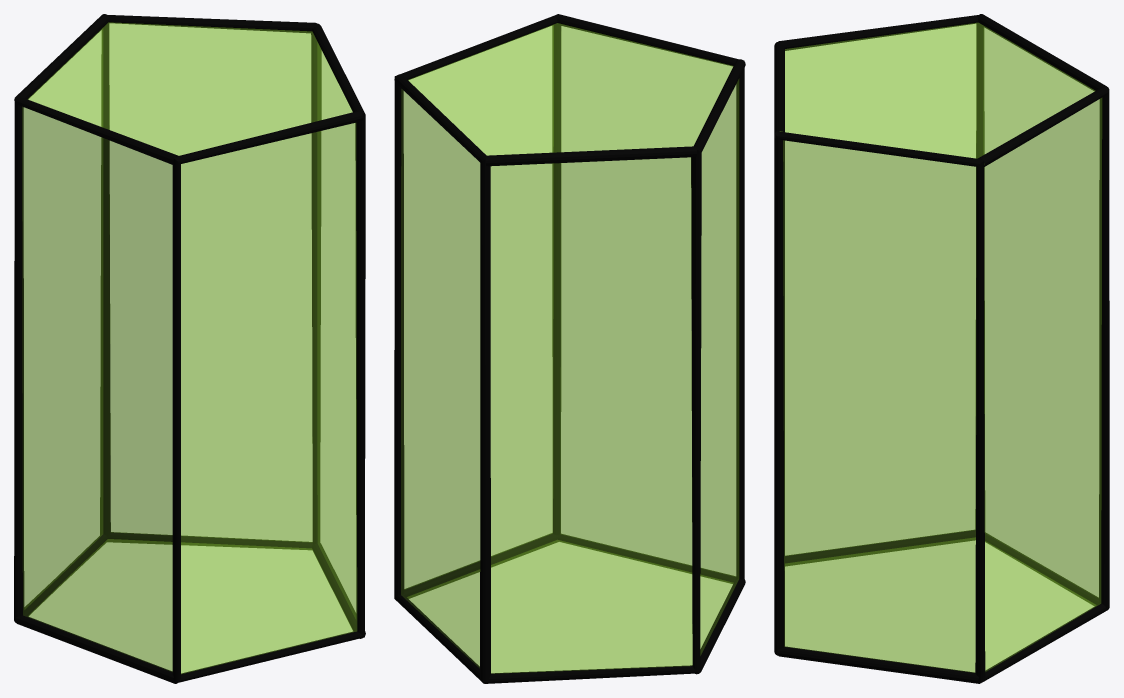
File: prisma.glb
3 renders of one model, left to right at view 1: azimuth 30°, elevation 25°; view 2: azimuth 150°, elevation 25°; view 3: azimuth 270°, elevation 25°, orthographic.
Visible parts, largest first — view 1: Circle.001, Circle; view 2: Circle.001, Circle; view 3: Circle.001, Circle.
Part boxes in pixels (x1,y1,x2,y2): Circle.001: [22, 22, 356, 673]; Circle: [14, 14, 365, 683]; Circle.001: [401, 23, 738, 673]; Circle: [394, 14, 745, 683]; Circle.001: [780, 23, 1101, 672]; Circle: [774, 14, 1109, 683].
Size of the model in its own units: 1.96 by 3.23 by 1.87.
